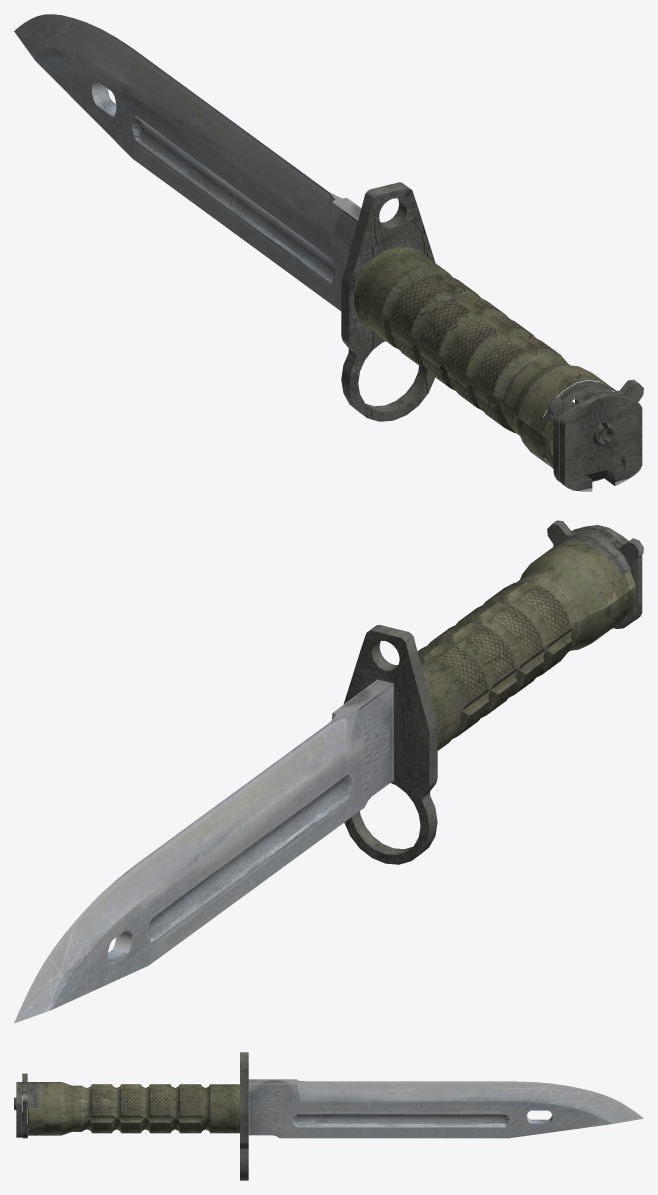
The model's file is m9-bayonet.glb.
The picture shows the model from 3 angles, top to bottom: view 1: azimuth 30°, elevation 25°; view 2: azimuth 150°, elevation 25°; view 3: azimuth 270°, elevation 25°; orthographic projection. The views are drawn at different scales.
Visible parts, largest first — view 1: m9-bayonet; view 2: m9-bayonet; view 3: m9-bayonet.
Part boxes in pixels (bbox=[...]): m9-bayonet: bbox=[14, 14, 643, 491]; m9-bayonet: bbox=[14, 520, 643, 1023]; m9-bayonet: bbox=[14, 1052, 643, 1180].
Bounding box in the file's own units: 0.0277 × 0.0663 × 0.31.
Materials: 1 (1 with a texture image).
